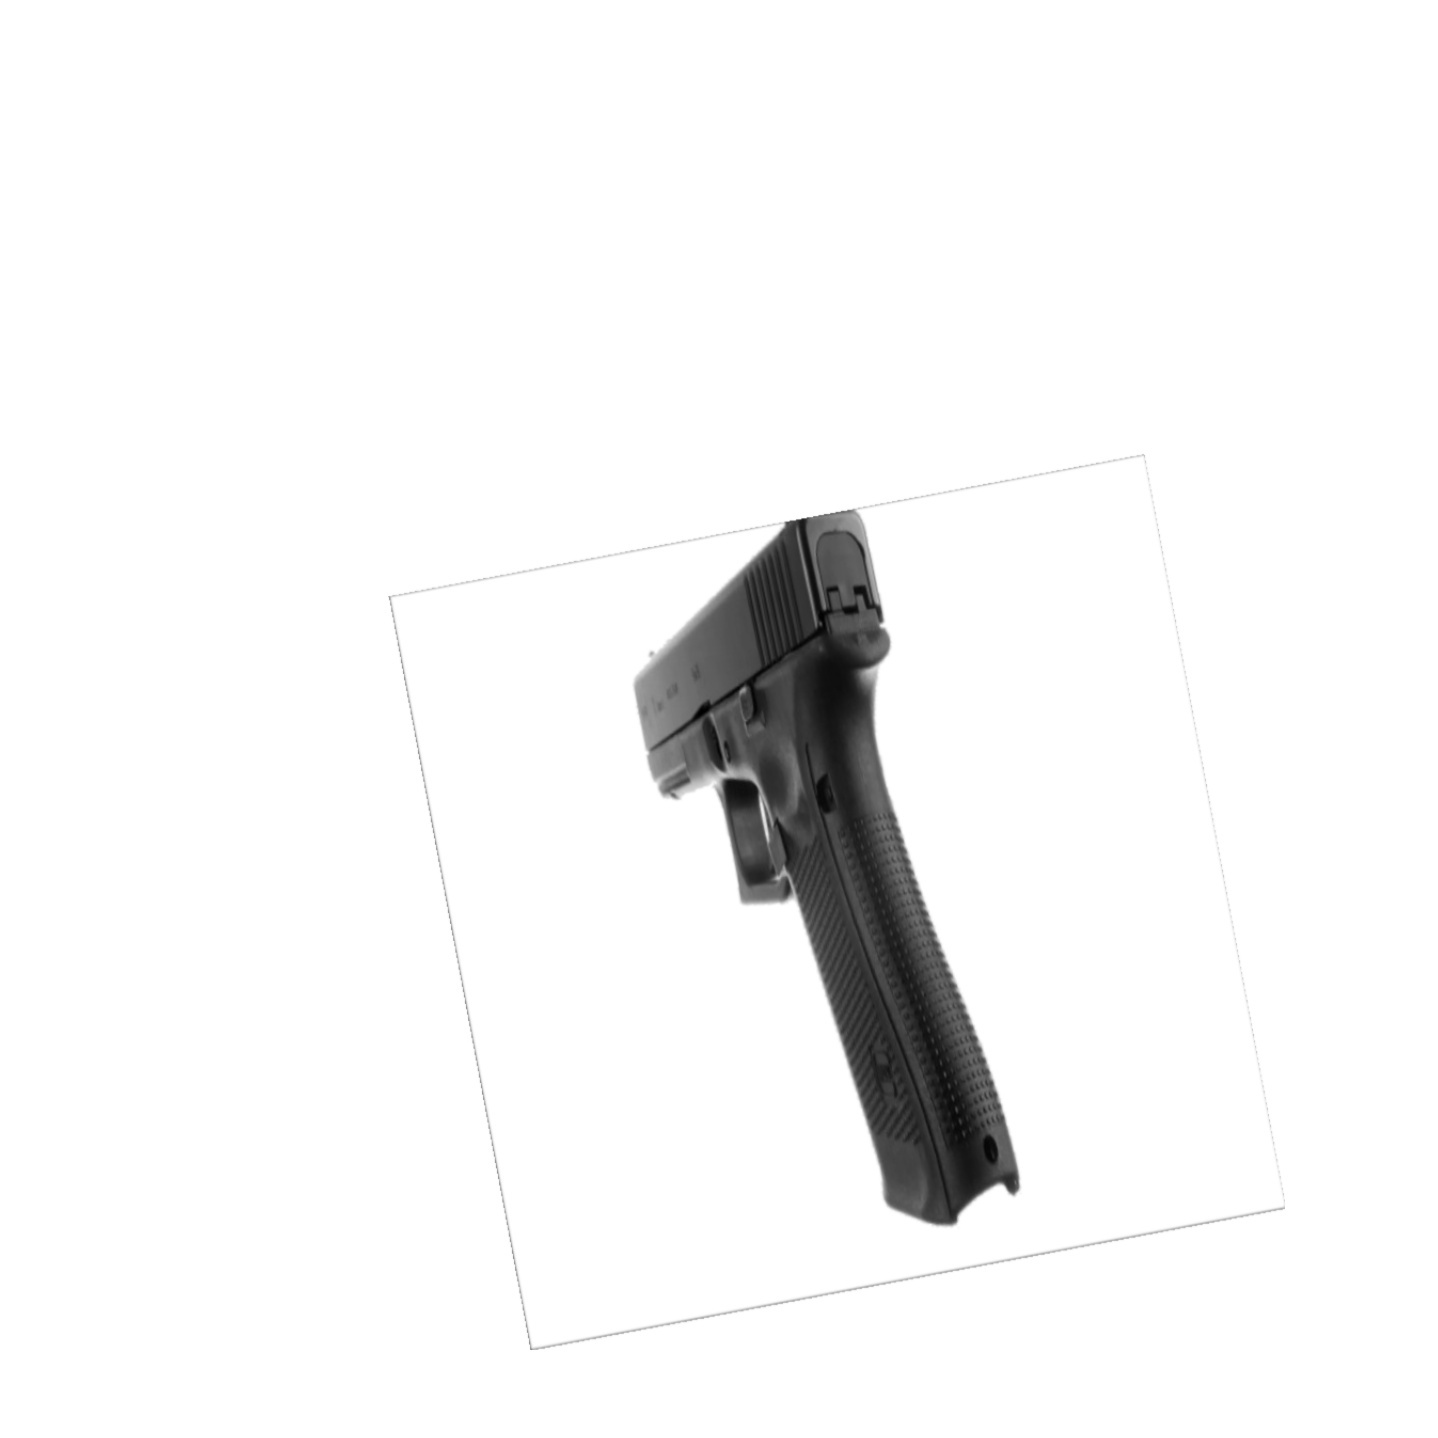gun: (633, 514, 1021, 1229)
